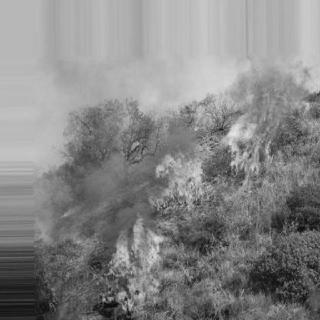Fire: (225, 52, 293, 196), (147, 147, 207, 213), (44, 284, 61, 313), (57, 202, 77, 225)
